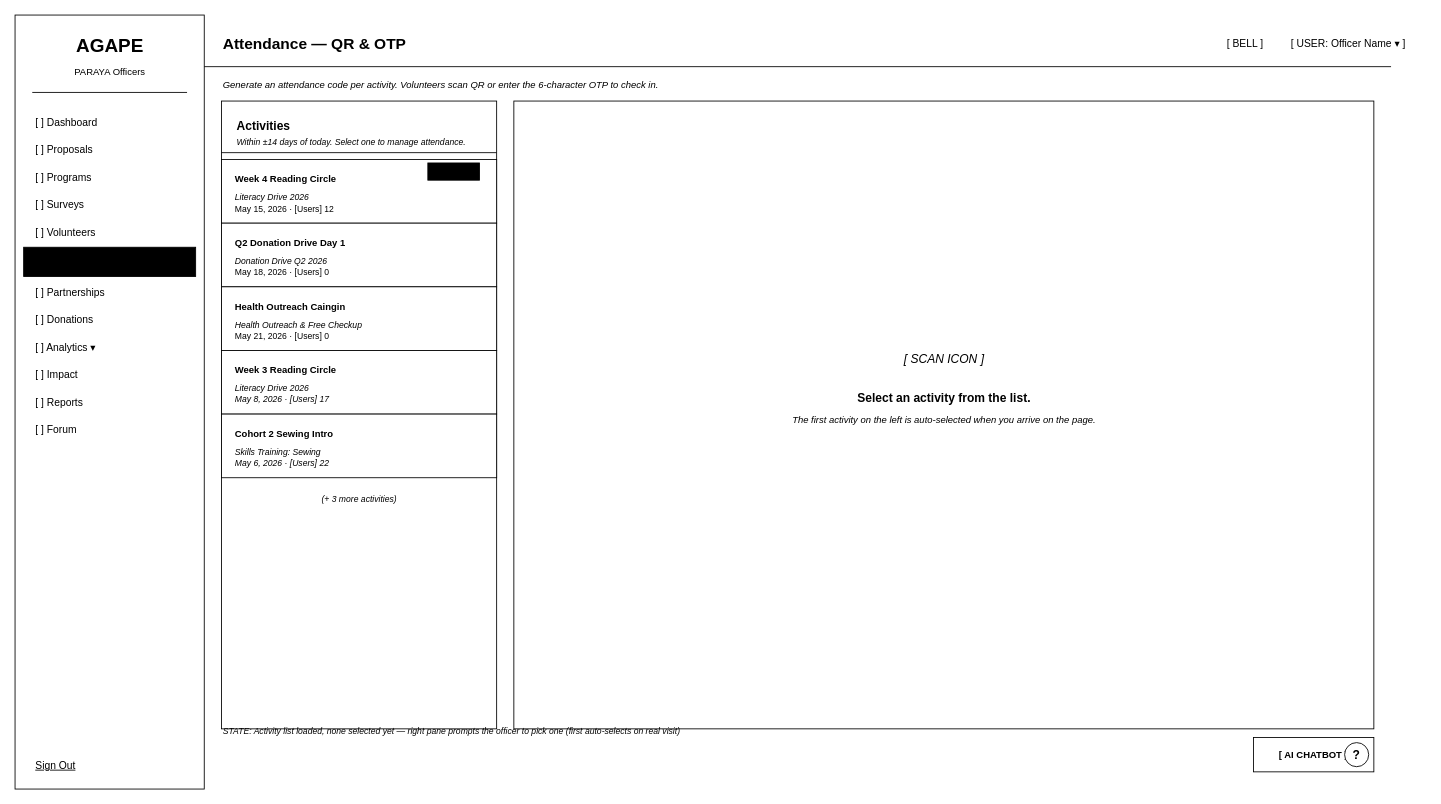
Image size: 1441x804. Some labels were removed from this diagram. The shapes that lost their labels are listed below. From the top down, each one's centre as x and y in pixels, then its label:
At (x=453, y=171): "( Live )".
At (x=109, y=261): "[x] Attendance".
